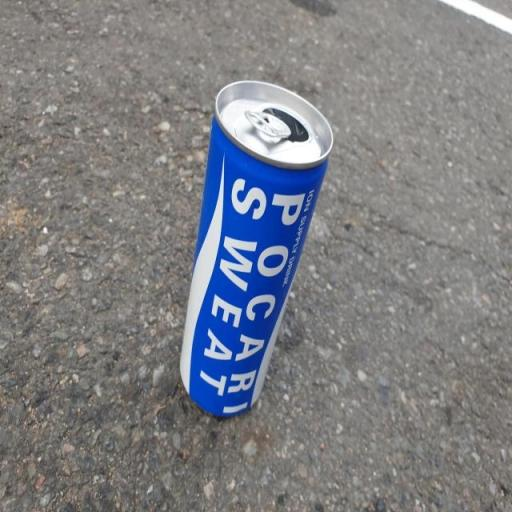metal: (146, 60, 347, 438)
